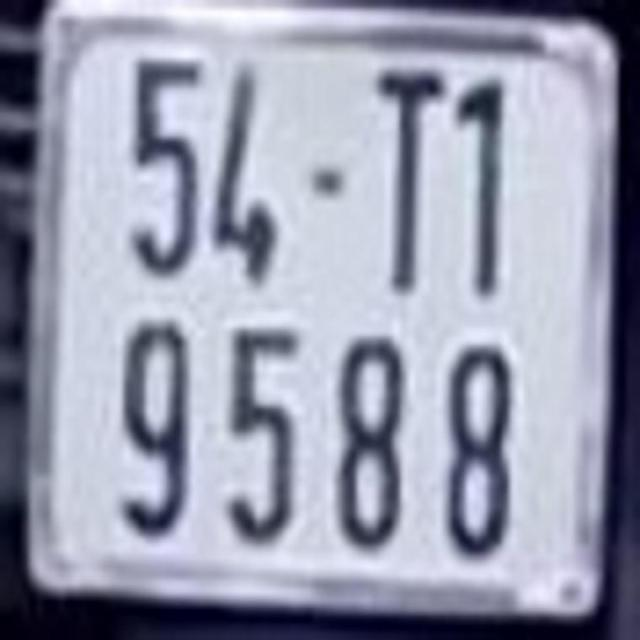1: (452, 74, 504, 300)
4: (213, 59, 280, 290)
5: (133, 54, 203, 280), (232, 322, 298, 544)
8: (444, 345, 511, 562), (340, 334, 403, 548)
9: (118, 314, 188, 533)
T: (374, 66, 446, 295)
